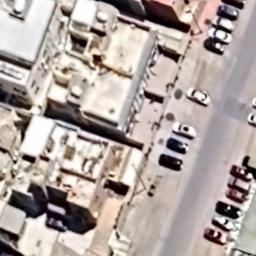SUV: (170, 120, 200, 140), (225, 176, 253, 196), (212, 14, 236, 32), (224, 188, 248, 204)
sedan: (215, 200, 246, 222), (186, 84, 212, 110), (202, 225, 232, 247), (157, 152, 187, 173), (203, 35, 227, 56), (207, 26, 235, 44), (229, 163, 254, 183), (210, 214, 236, 232), (166, 136, 190, 154), (241, 152, 256, 172), (245, 112, 256, 127), (251, 95, 256, 110)
unknown: (220, 0, 249, 10)
van: (215, 4, 245, 20)
